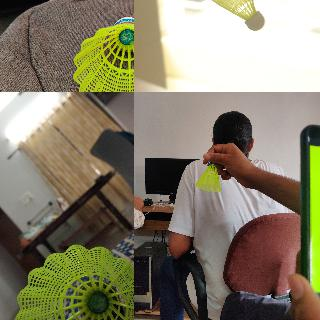shuttlecock: (14, 244, 133, 319), (73, 18, 133, 91), (208, 0, 264, 31), (195, 160, 221, 192)
